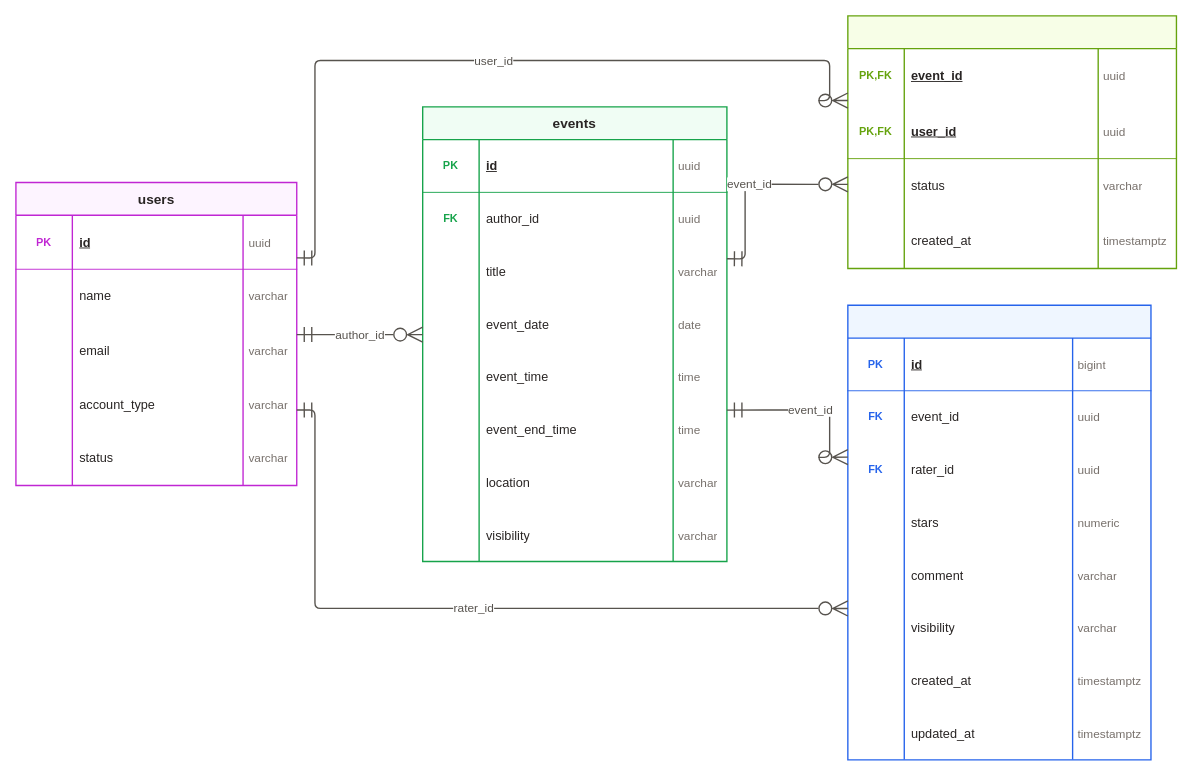
Image size: 1193x776. Some labels were removed from this diagram. The shapes that lost their labels are listed below. From the top down, each one's box as (x1, y1, x2, y2) in pixels, then its label:
(847, 15, 1177, 269): event_participants
(847, 304, 1151, 760): event_ratings
